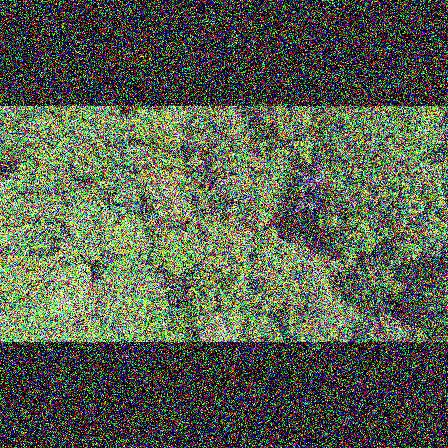Dead: (291, 161, 330, 214)
